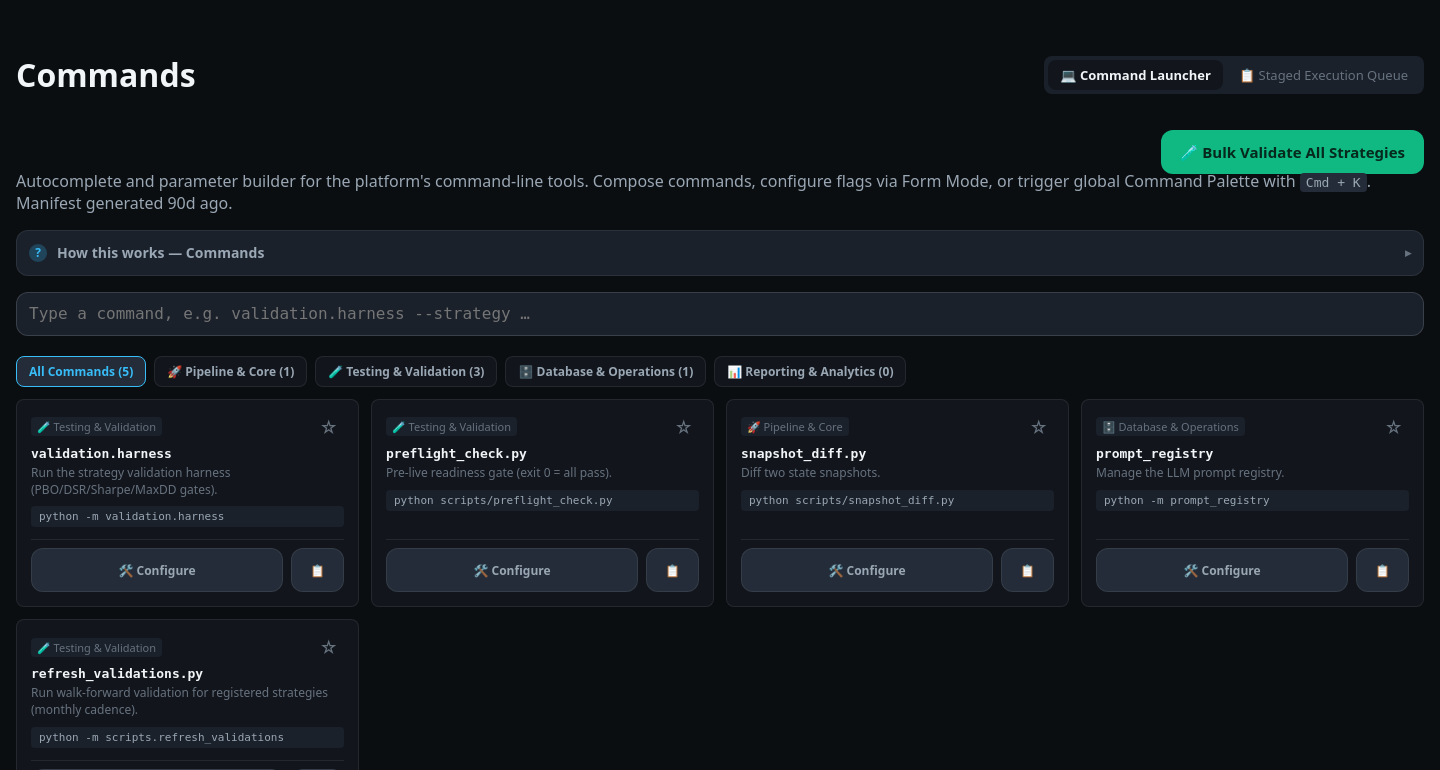
Commands screen (real mock API) › suggests a resolved command's options after a space
The image size is (1440, 770).
Expected: the text "validation.harness" is shown, [31,446,172,461]
Type "refresh_validations.py " into the dropdown with test id "command-bar-input" at (720, 314), box [16,292,1424,336]
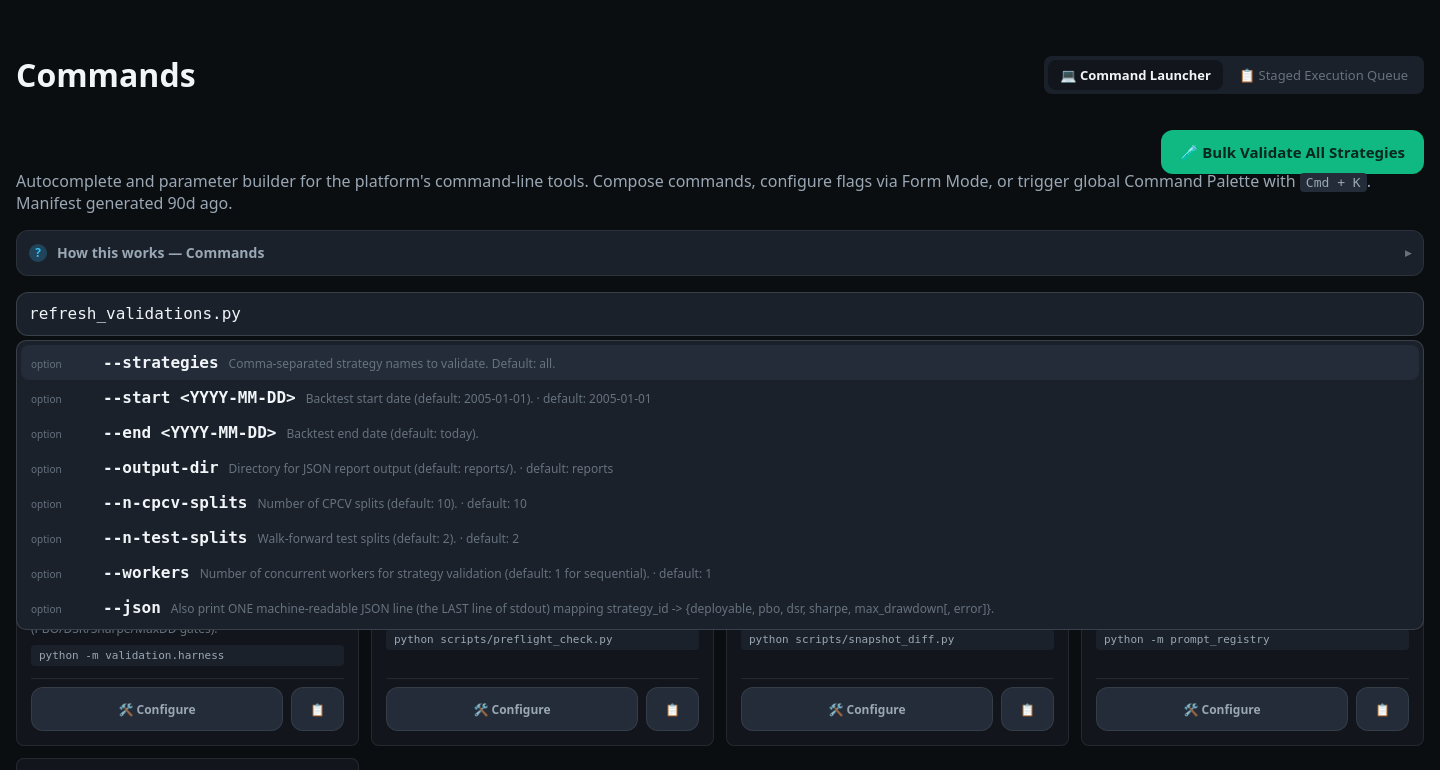
Expected: the text "--start <YYYY-MM-DD>" is shown, [103,388,296,407]
Expected: the text "default: 2005-01-01" is shown, [306,390,652,407]
